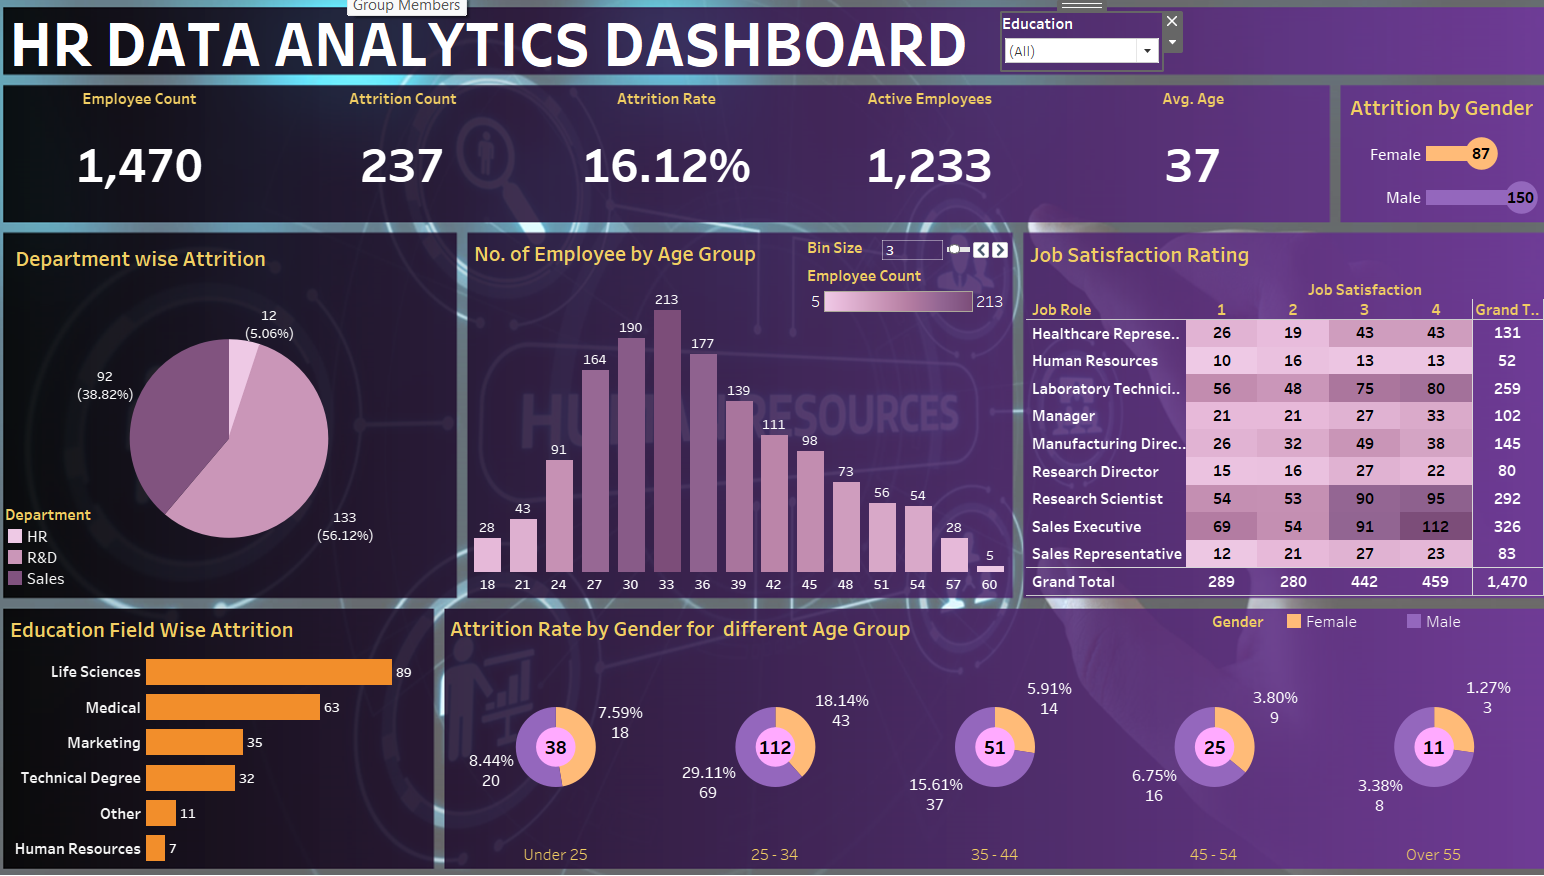

What the dashboard file says about the page in this screenshot:
{"tool":"tableau","page":{"name":"HR ANALYTICS DASHBOARD","canvas":[1580,900],"ordinal":0},"visuals":[{"type":"image","param":"C:/Users/angel/OneDrive/Desktop/HR background.png","box":[8,8,1564,884]},{"type":"text","box":[22,22,970,62]},{"type":"filter","title":"No. of Employee by Age Group","param":"[federated.1d6fm050yxt3z810yii4l1lp9cv6].[none:Education:nk]","box":[1018,25,160,57]},{"type":"worksheet","title":"KPI","mark":"Automatic","box":[24,100,1317,131]},{"type":"worksheet","title":"Attrition by Gender","mark":"Automatic","rows":["Gender"],"cols":["Calculation_729020225070170112","Calculation_729020225070170112"],"box":[1362,101,197,130]},{"type":"worksheet","title":"Department wise Attrition","mark":"Pie","box":[22,247,446,358]},{"type":"worksheet","title":"No. of Employee by Age Group","mark":"Automatic","rows":["Employee Count"],"cols":["Age (bin)"],"box":[486,247,538,359]},{"type":"worksheet","title":"Job Satisfaction Rating","mark":"Square","rows":["Job Role"],"cols":["Job Satisfaction"],"box":[1042,248,518,360]},{"type":"parameter","param":"[Parameters].[Parameter 1]","box":[823,249,204,26]},{"type":"legend","title":"No. of Employee by Age Group","param":"[federated.1d6fm050yxt3z810yii4l1lp9cv6].[sum:Employee Count:qk]","box":[823,277,201,55]},{"type":"legend","title":"Department wise Attrition","param":"[federated.1d6fm050yxt3z810yii4l1lp9cv6].[none:Department:nk]","box":[21,516,111,92]},{"type":"worksheet","title":"Attrition Rate by Gender for  different Age Group","mark":"Pie","rows":["Calculation_729020225149370373","Calculation_729020225149370373"],"cols":["CF_age band"],"box":[462,622,1098,256]},{"type":"worksheet","title":"Education Field Wise Attrition","mark":"Automatic","rows":["Education Field"],"cols":["Calculation_729020225070170112"],"box":[22,623,425,255]},{"type":"legend","title":"Attrition Rate by Gender for  different Age Group","param":"[federated.1d6fm050yxt3z810yii4l1lp9cv6].[none:Gender:nk]","box":[1228,623,331,23]}]}

Visuals, with their boxes in screenshot pixels (x1, y1, x2, y2), scaled from the page's 1580x900 canvas onto the 1544x876 screenshot:
image: [8, 8, 1536, 868]
text: [21, 21, 969, 82]
"No. of Employee by Age Group" filter: [995, 24, 1151, 80]
"KPI" worksheet: [23, 97, 1310, 225]
"Attrition by Gender" worksheet: [1331, 98, 1523, 225]
"Department wise Attrition" worksheet (Pie marks): [21, 240, 457, 589]
"No. of Employee by Age Group" worksheet: [475, 240, 1001, 590]
"Job Satisfaction Rating" worksheet (Square marks): [1018, 241, 1524, 592]
parameter: [804, 242, 1004, 268]
"No. of Employee by Age Group" legend: [804, 270, 1001, 323]
"Department wise Attrition" legend: [21, 502, 129, 592]
"Attrition Rate by Gender for  different Age Group" worksheet (Pie marks): [451, 605, 1524, 855]
"Education Field Wise Attrition" worksheet: [21, 606, 437, 855]
"Attrition Rate by Gender for  different Age Group" legend: [1200, 606, 1523, 629]
